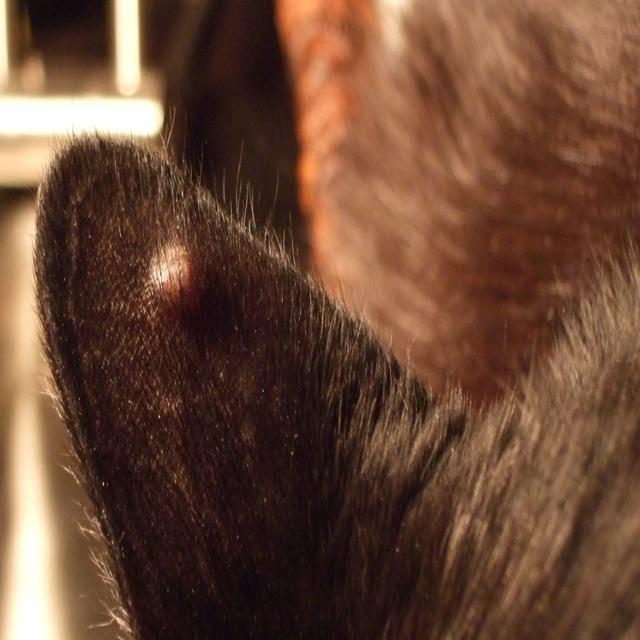lump_and_bump: (149, 236, 209, 298)
